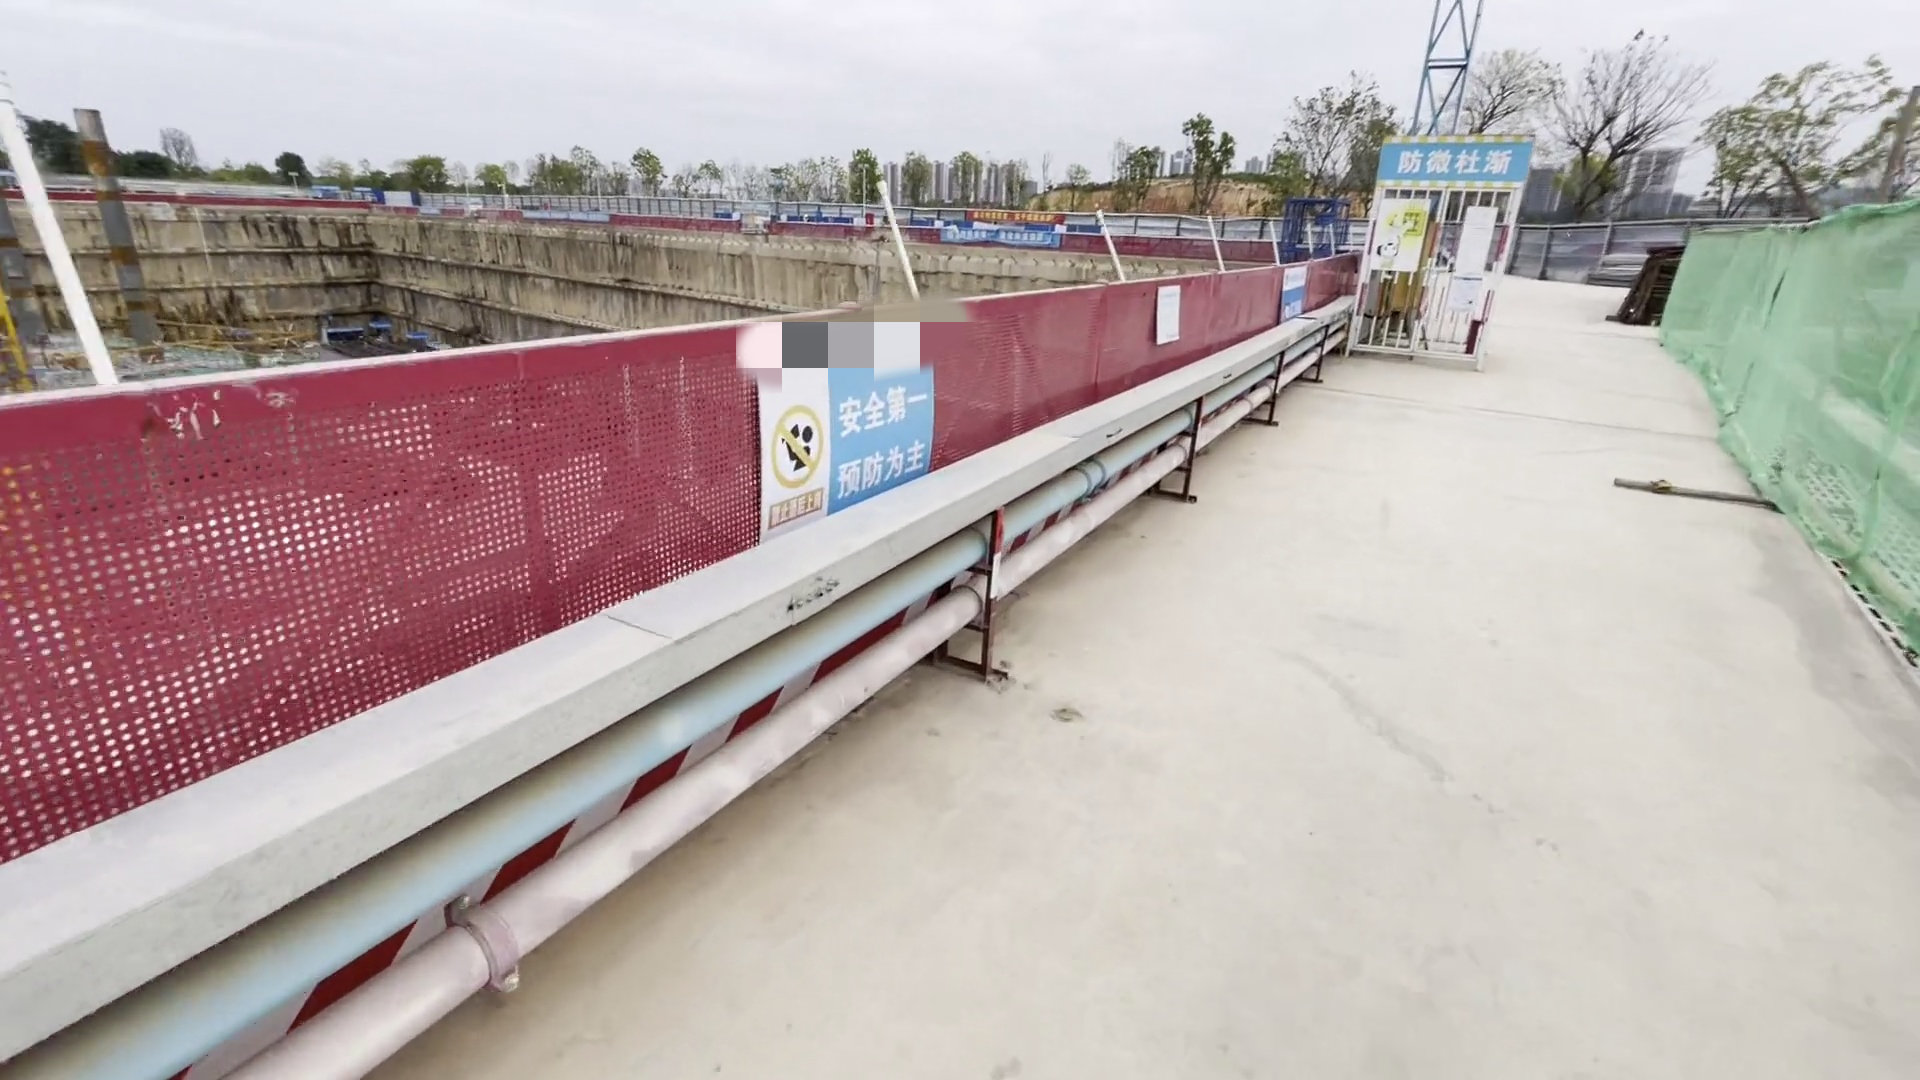fence: (1, 258, 1353, 857)
slogan: (827, 385, 952, 501), (1396, 137, 1523, 190), (948, 203, 1051, 245)
